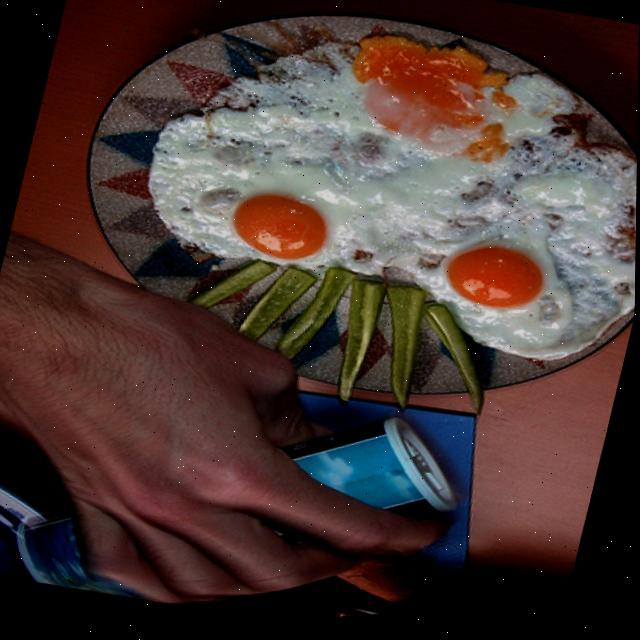鸡蛋料理: (33, 0, 640, 413)
